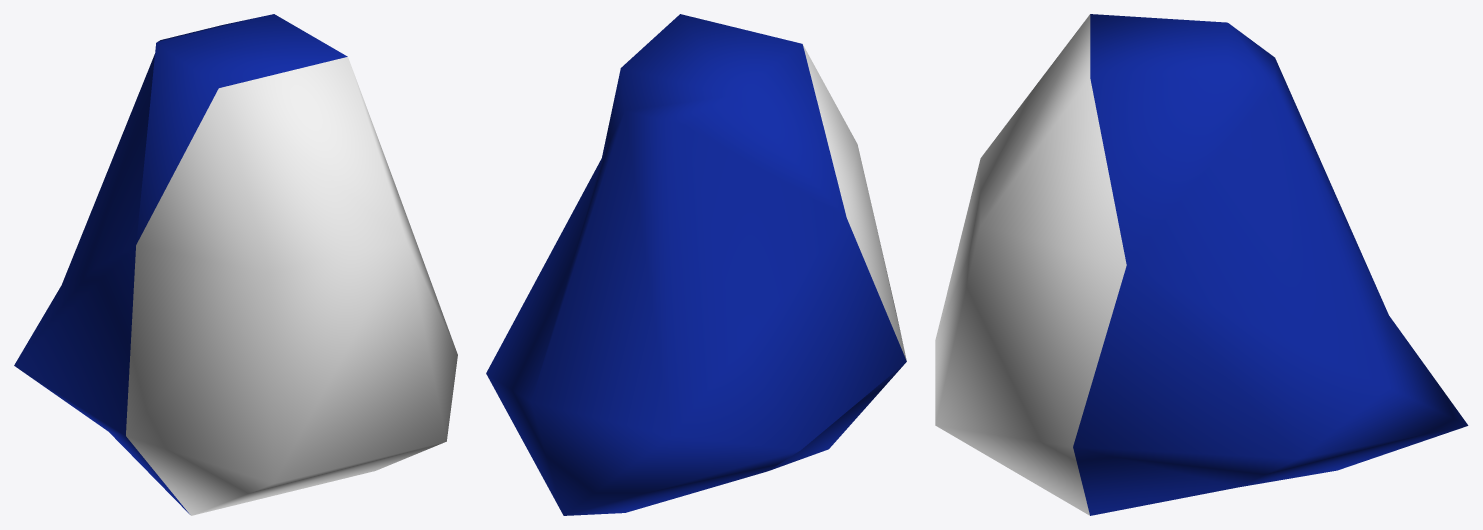
File: Torso.glb
3 views of the same model, side by side, from view 1: azimuth 30°, elevation 25°; view 2: azimuth 150°, elevation 25°; view 3: azimuth 270°, elevation 25° (orthographic). The views are drawn at different scales.
Visible parts, largest first — view 1: ID70_noesis_meshnode_0002; view 2: ID70_noesis_meshnode_0002; view 3: ID70_noesis_meshnode_0002.
Part boxes in pixels (left/top/right/bottom): ID70_noesis_meshnode_0002: left=14, top=14, right=457, bottom=515; ID70_noesis_meshnode_0002: left=486, top=14, right=906, bottom=515; ID70_noesis_meshnode_0002: left=935, top=14, right=1468, bottom=515.
Bounding box in the file's own units: 45 × 54.5 × 62.
Materials: 3 (1 with a texture image).
